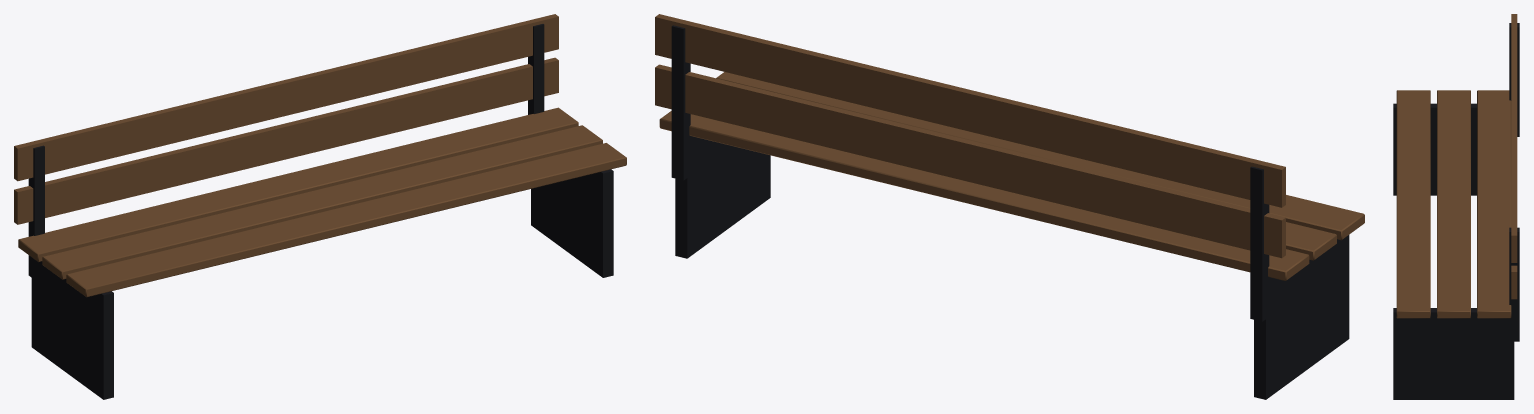
File: sh_bench.glb
3 renders of one model, left to right at view 1: azimuth 30°, elevation 25°; view 2: azimuth 150°, elevation 25°; view 3: azimuth 270°, elevation 25°, orthographic. The views are drawn at different scales.
Parts seen in each view (by area): view 1: rest, arm; view 2: rest, arm; view 3: rest, arm.
Part boxes in pixels (x1,y1,x2,y2): rest: [14, 14, 626, 297]; arm: [28, 24, 613, 399]; rest: [655, 14, 1364, 280]; arm: [671, 25, 1349, 399]; rest: [1396, 14, 1517, 318]; arm: [1393, 23, 1519, 399].
Bounding box in the file's own units: 2.6 × 0.935 × 0.625.
